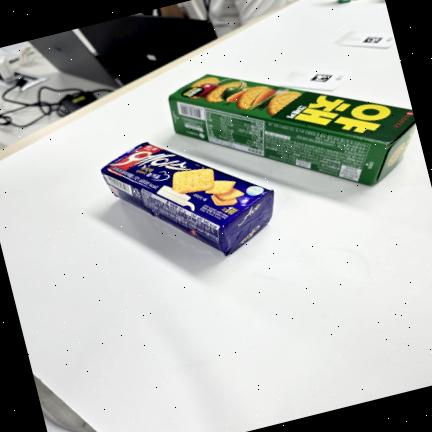cracker_ace: (101, 141, 274, 255)
cracker_vege: (168, 74, 416, 185)
